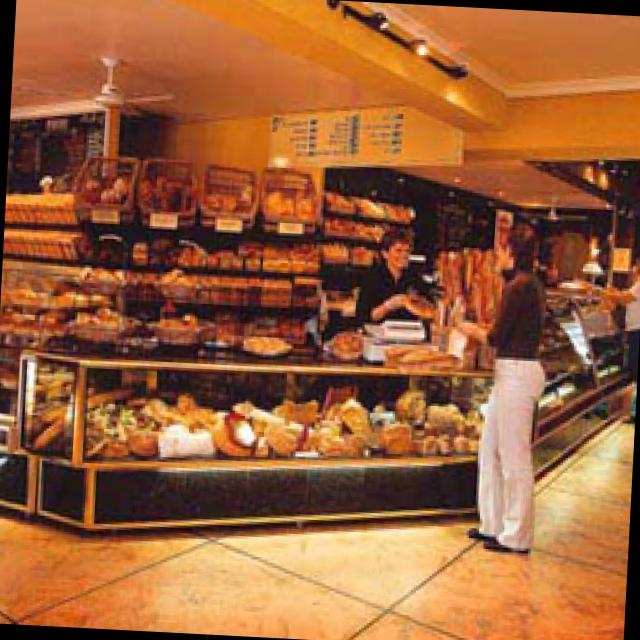brand name: (293, 50, 534, 171)
bulletin board: (7, 99, 139, 232)
ceiling beam: (10, 0, 497, 125)
counter bottom: (0, 281, 135, 450)
floor -X: (0, 542, 169, 630)
lamp crop: (182, 28, 215, 43), (194, 86, 222, 99)
loaf occluded: (431, 244, 498, 259)
loafs: (339, 231, 416, 252)
pie: (380, 486, 423, 531), (424, 499, 474, 532), (334, 476, 379, 508)
pies: (402, 552, 618, 640), (232, 405, 340, 451)
shelves crop: (317, 250, 559, 307)
showcase occluded: (0, 308, 632, 640)
wall clock: (267, 9, 640, 384), (0, 77, 280, 327)
